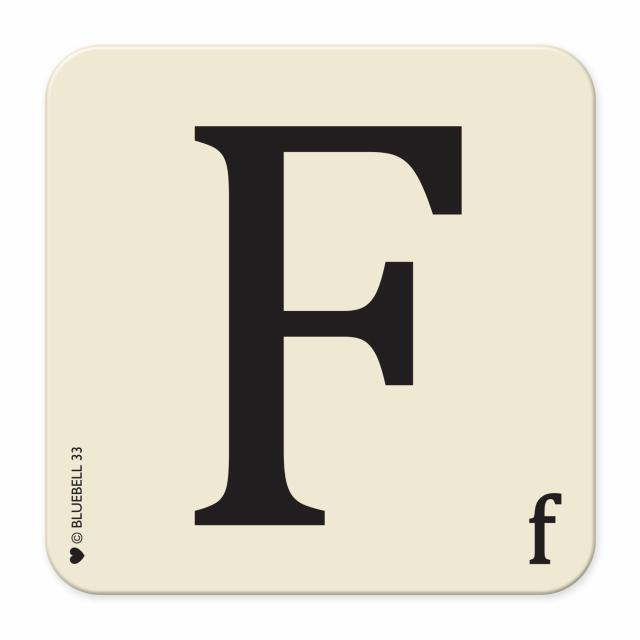F: (22, 32, 602, 613)
